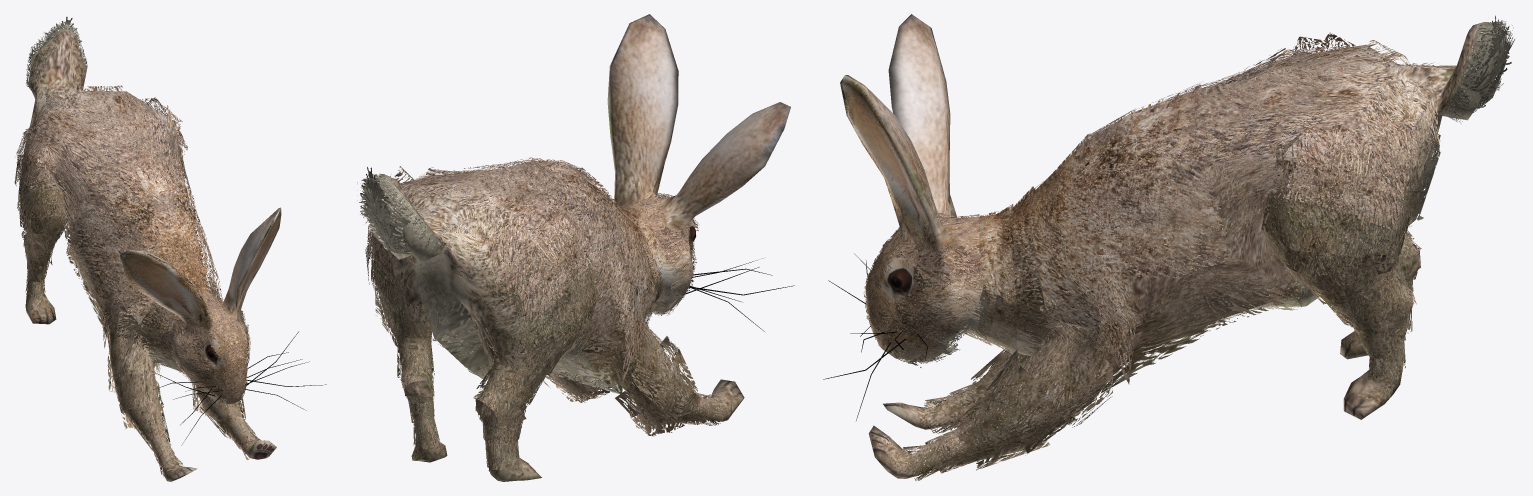
The model's file is rabbit20019.obj.
3 views of the same model, side by side, from view 1: azimuth 30°, elevation 25°; view 2: azimuth 150°, elevation 25°; view 3: azimuth 270°, elevation 25° (orthographic). The views are drawn at different scales.
Parts seen in each view (by area): view 1: Rabbit, Fur; view 2: Rabbit, Fur; view 3: Rabbit, Fur.
Part boxes in pixels (x1=…): Rabbit: x1=20, y1=30, x2=326, y2=481; Fur: x1=14, y1=16, x2=261, y2=476; Rabbit: x1=372, y1=14, x2=794, y2=481; Fur: x1=357, y1=157, x2=727, y2=471; Rabbit: x1=823, y1=14, x2=1505, y2=478; Fur: x1=863, y1=15, x2=1514, y2=480.
Bounding box in the file's own units: 8.75 × 14.05 × 18.46.
